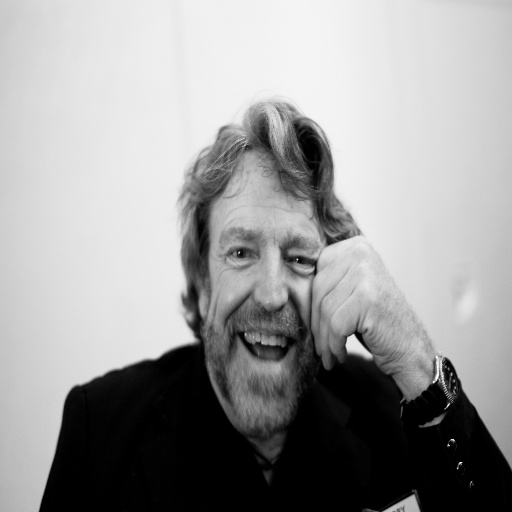hand: (287, 205, 467, 446)
